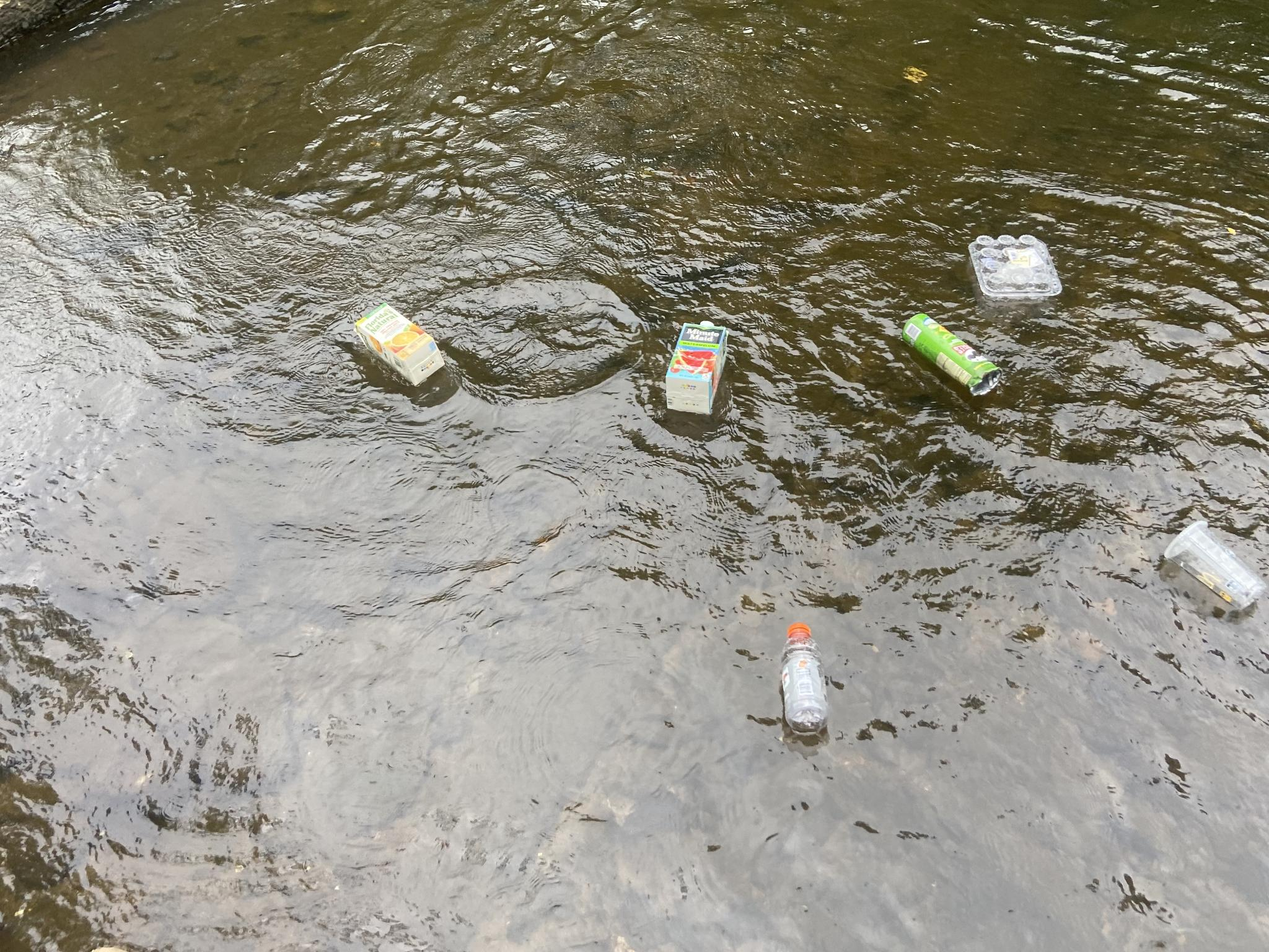cardboard: (349, 298, 451, 391), (653, 312, 735, 423)
metal: (898, 305, 1006, 408)
plastic: (1156, 512, 1269, 615), (961, 225, 1066, 305), (775, 615, 837, 738)
